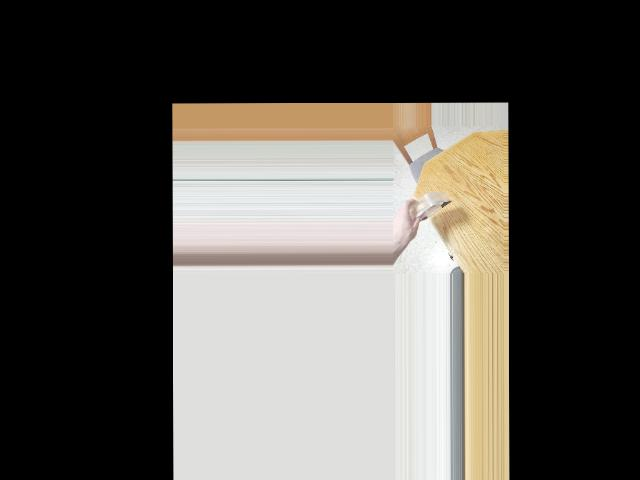cheese: (399, 180, 442, 237)
